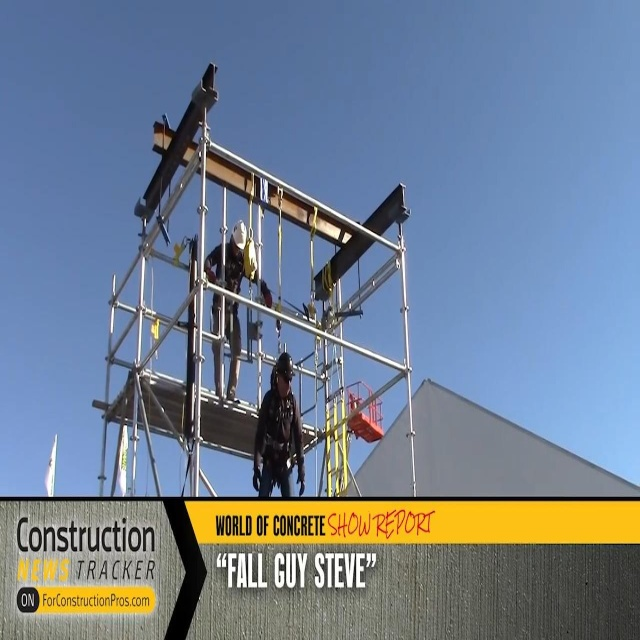Arnes_seguridad: (256, 379, 299, 487), (215, 239, 245, 333)
